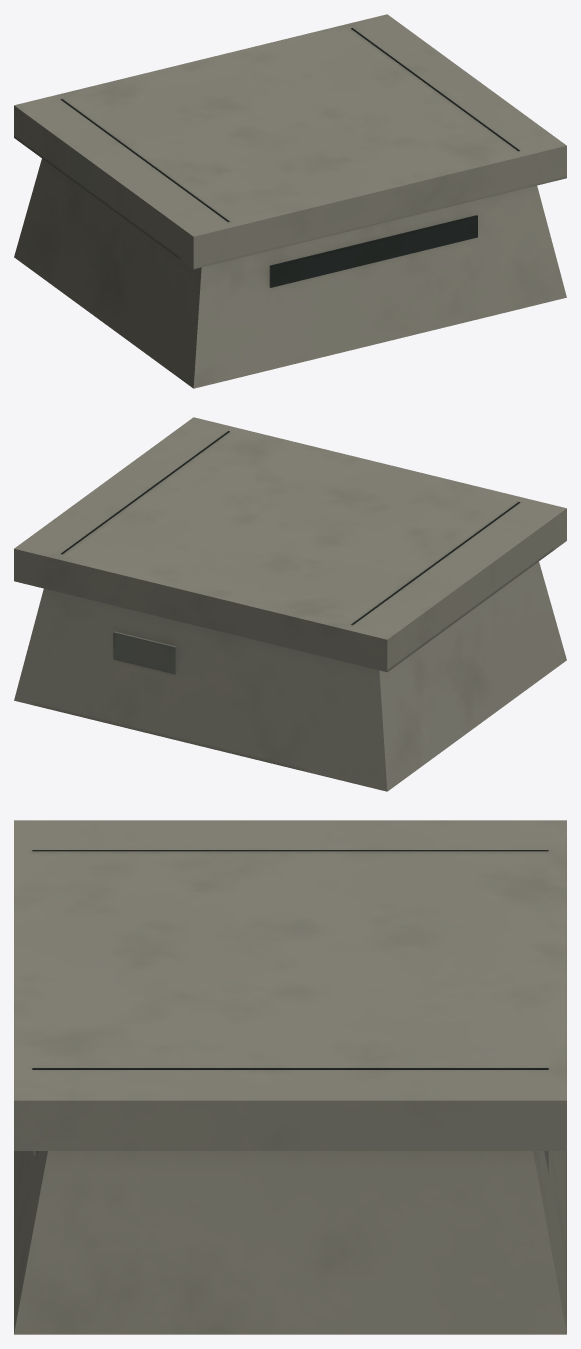
The model's file is military-bunker.fbx.
The picture shows the model from 3 angles, top to bottom: view 1: azimuth 30°, elevation 25°; view 2: azimuth 150°, elevation 25°; view 3: azimuth 270°, elevation 25°; orthographic projection. The views are drawn at different scales.
Parts seen in each view (by area): view 1: military-bunker; view 2: military-bunker; view 3: military-bunker.
Boxes of the visible parts, x1=… form: military-bunker: x1=14, y1=14, x2=566, y2=388; military-bunker: x1=14, y1=417, x2=566, y2=791; military-bunker: x1=14, y1=820, x2=566, y2=1334.
Bounding box in the file's own units: 36 × 14.05 × 30.
Materials: 1 (1 with a texture image).
